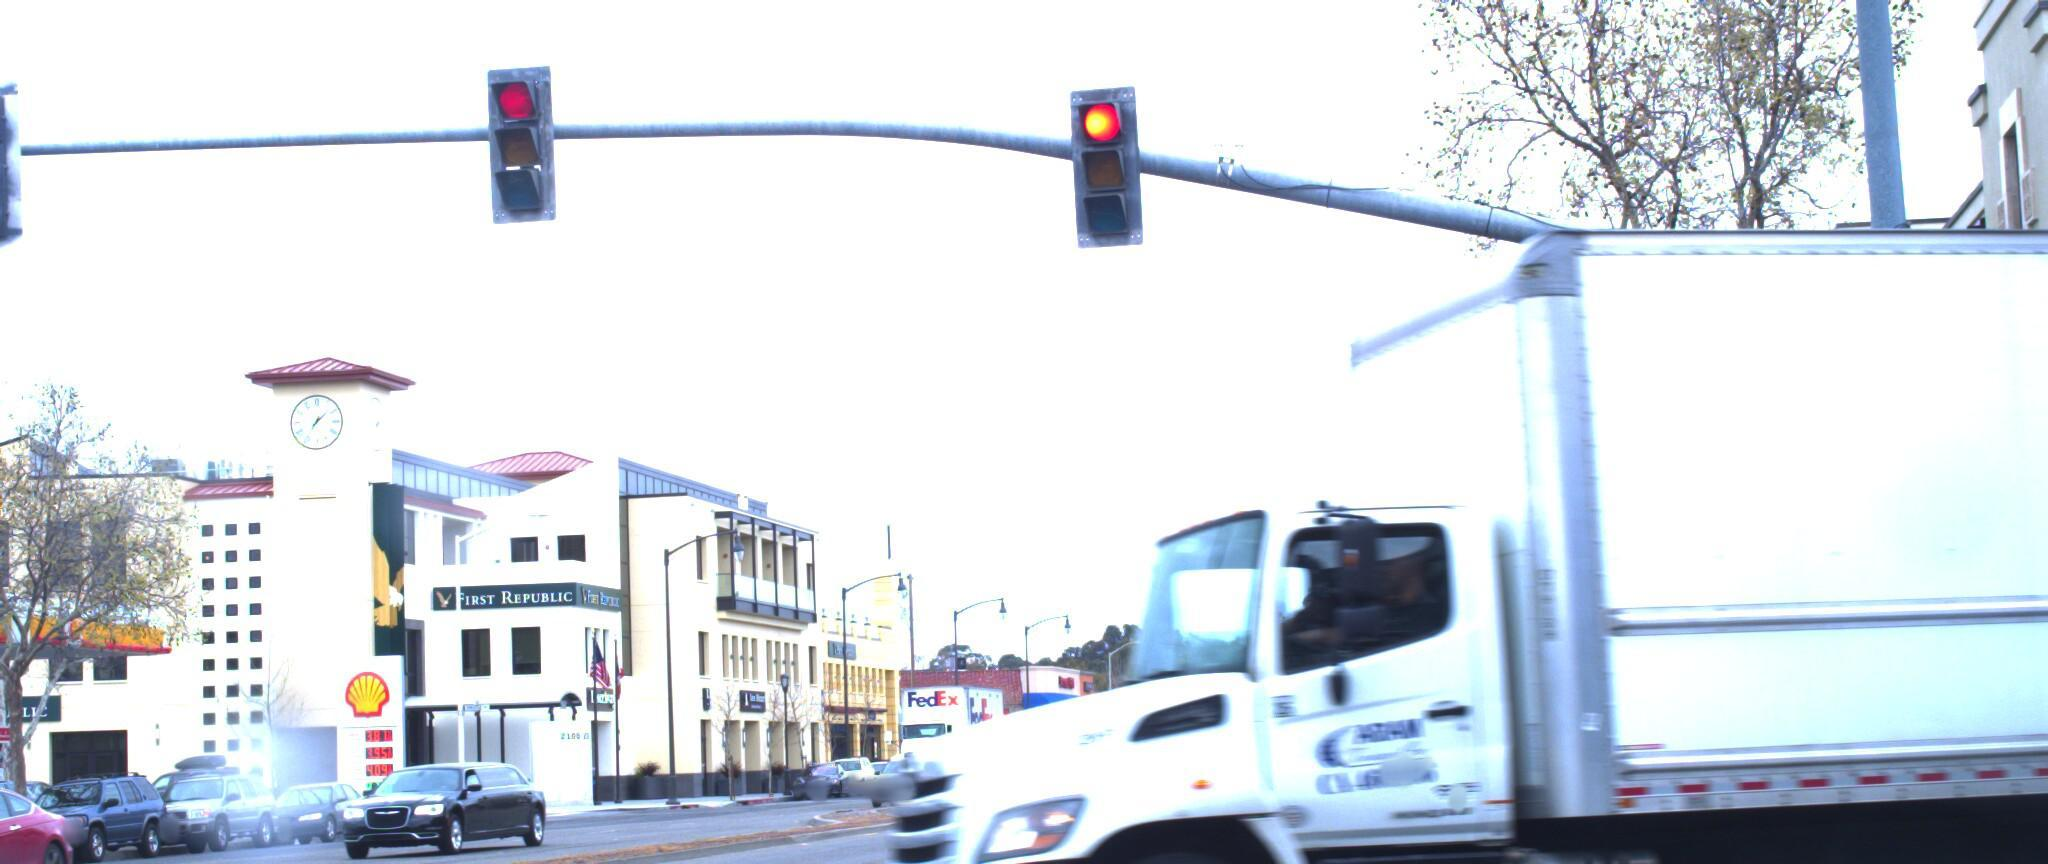car: (0, 795, 174, 864), (137, 787, 293, 864), (0, 784, 104, 864)
truck: (767, 159, 2048, 864)
